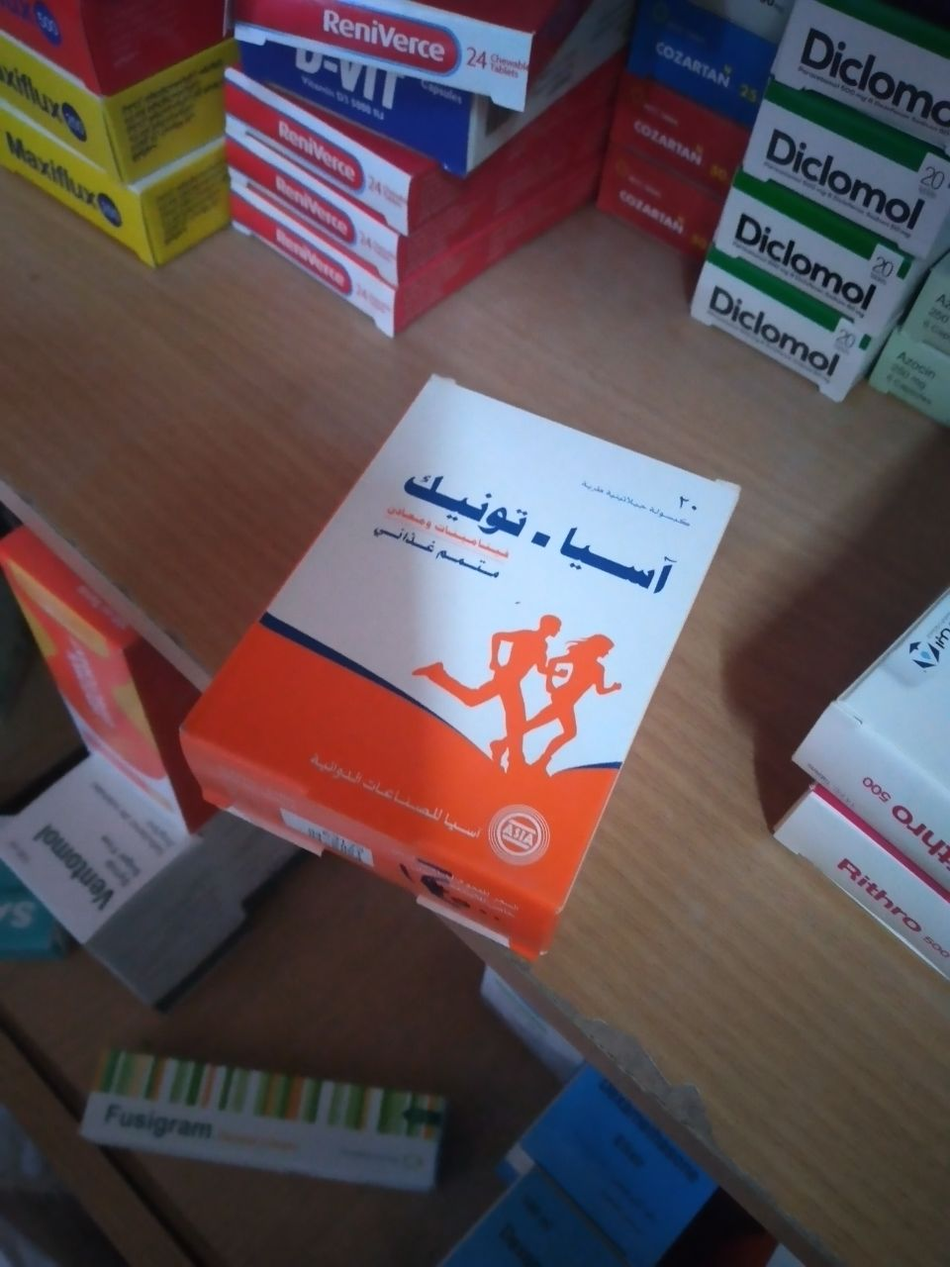Medicine: (191, 360, 755, 963)
